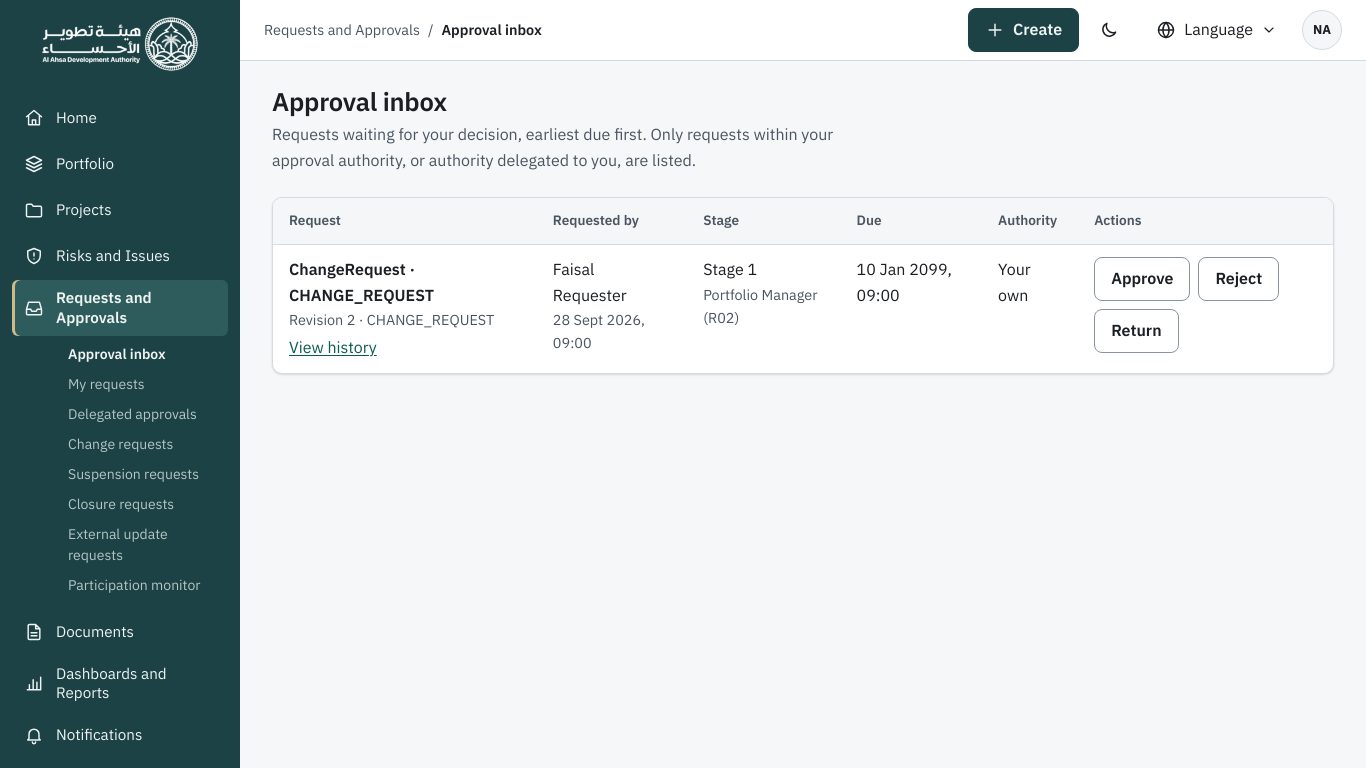
Test: MOD-040 approve › approving needs no reason and sends none
Click the button "Approve" at (1142, 279), box [1094,257,1190,301]
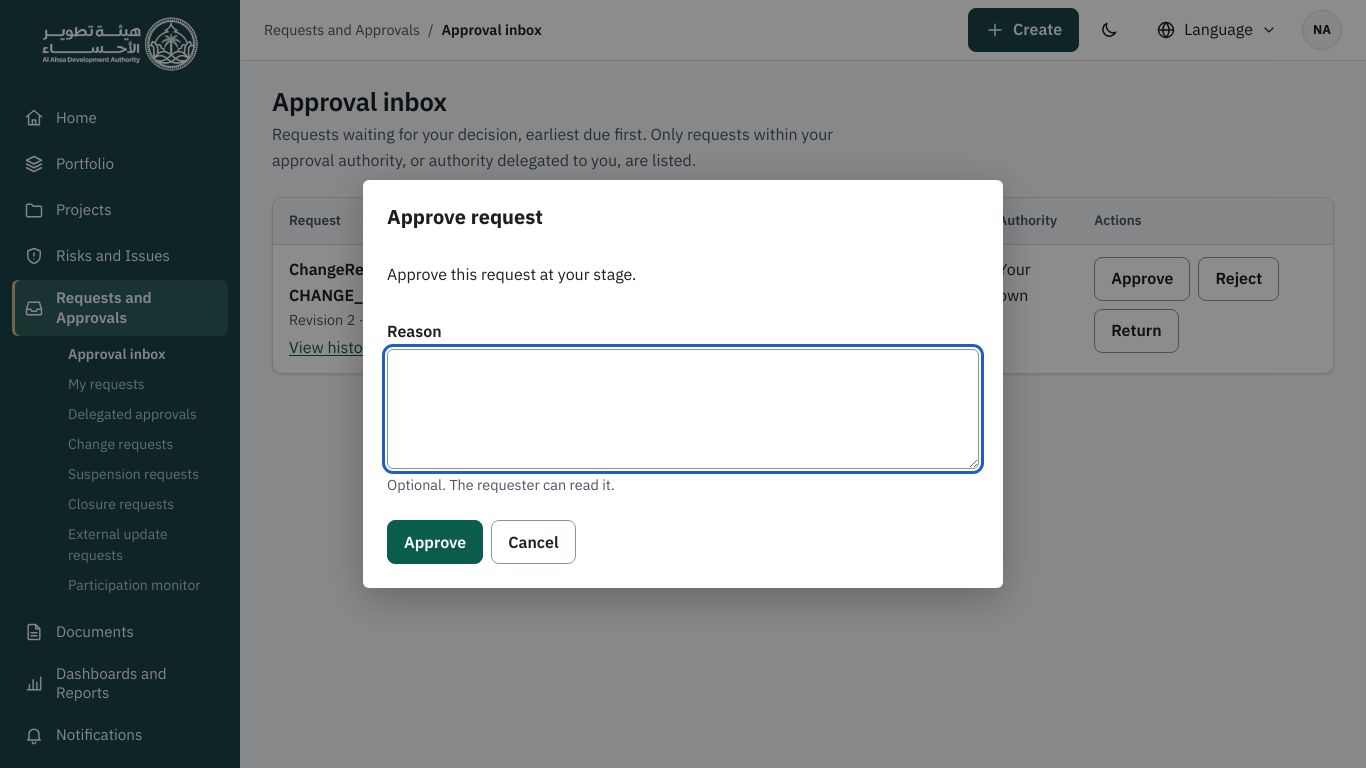
Click the button "Approve" at (435, 542), box [387,520,483,564]
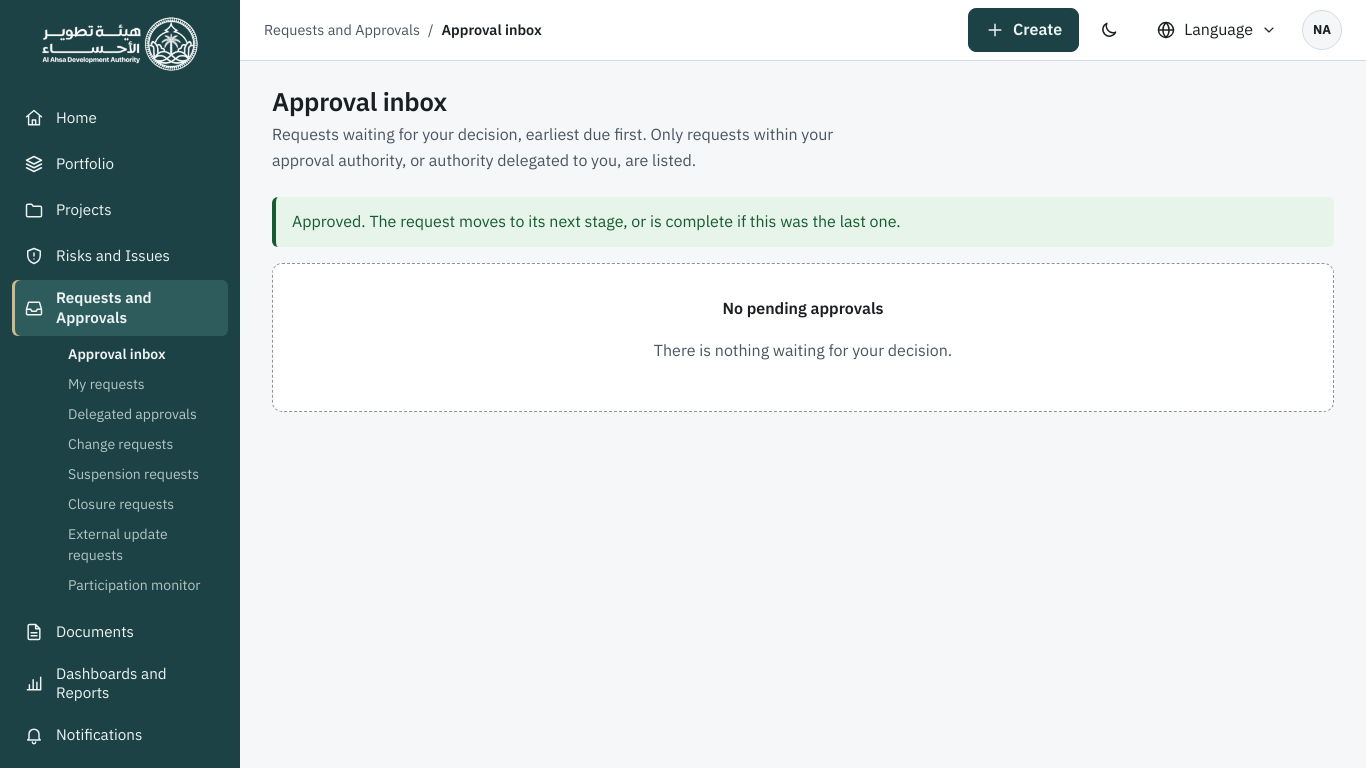
Expected: the text "Approved. The request moves to its next stage, or is complete if this was the last one." is shown, [292,212,900,232]
